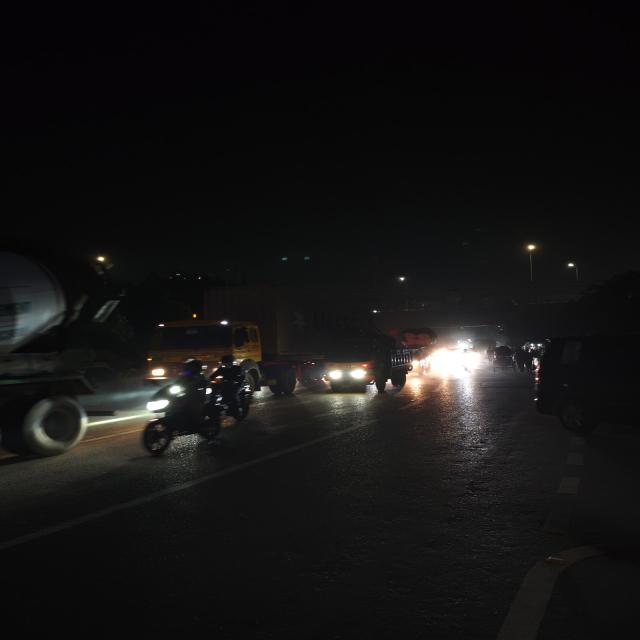motorcycle: (126, 358, 221, 462), (206, 353, 256, 426)
pickup_van: (321, 338, 418, 395)
rickshaw: (487, 344, 517, 372)
truck: (140, 291, 381, 369)
